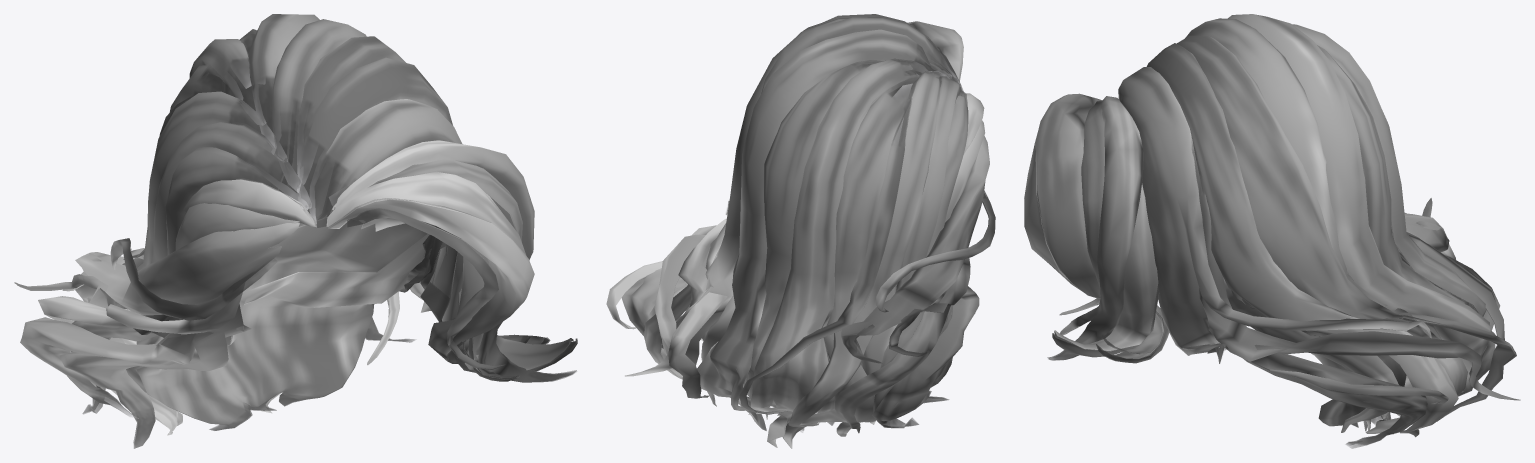
File: daz_hair_glam_wave.glb
The picture shows the model from 3 angles, left to right: view 1: azimuth 30°, elevation 25°; view 2: azimuth 150°, elevation 25°; view 3: azimuth 270°, elevation 25°; orthographic projection. The views are drawn at different scales.
Visible parts, largest first — view 1: daz_hair_glam_wave; view 2: daz_hair_glam_wave; view 3: daz_hair_glam_wave.
Boxes of the visible parts, box(x1,y1,x2,y2) form: daz_hair_glam_wave: box(14, 14, 577, 448); daz_hair_glam_wave: box(606, 14, 995, 448); daz_hair_glam_wave: box(1024, 14, 1520, 448).
Size of the model in its own units: 0.2756 by 0.2965 by 0.3317.
Materials: 1 (1 with a texture image).
